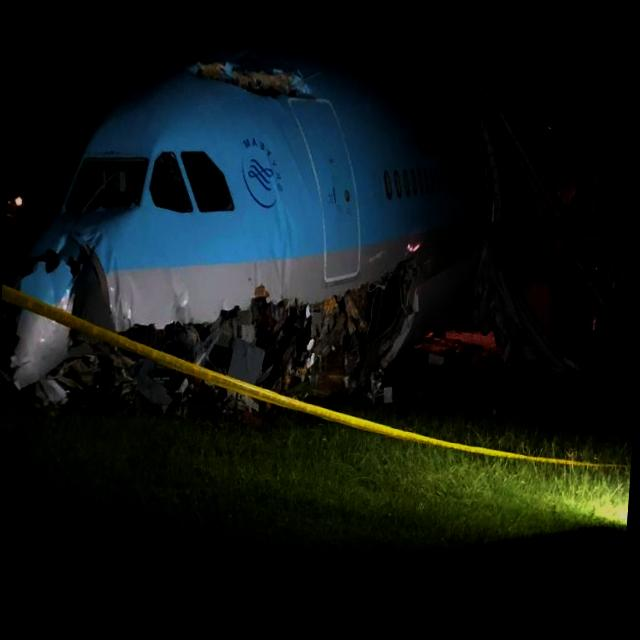crack: (184, 58, 314, 116)
